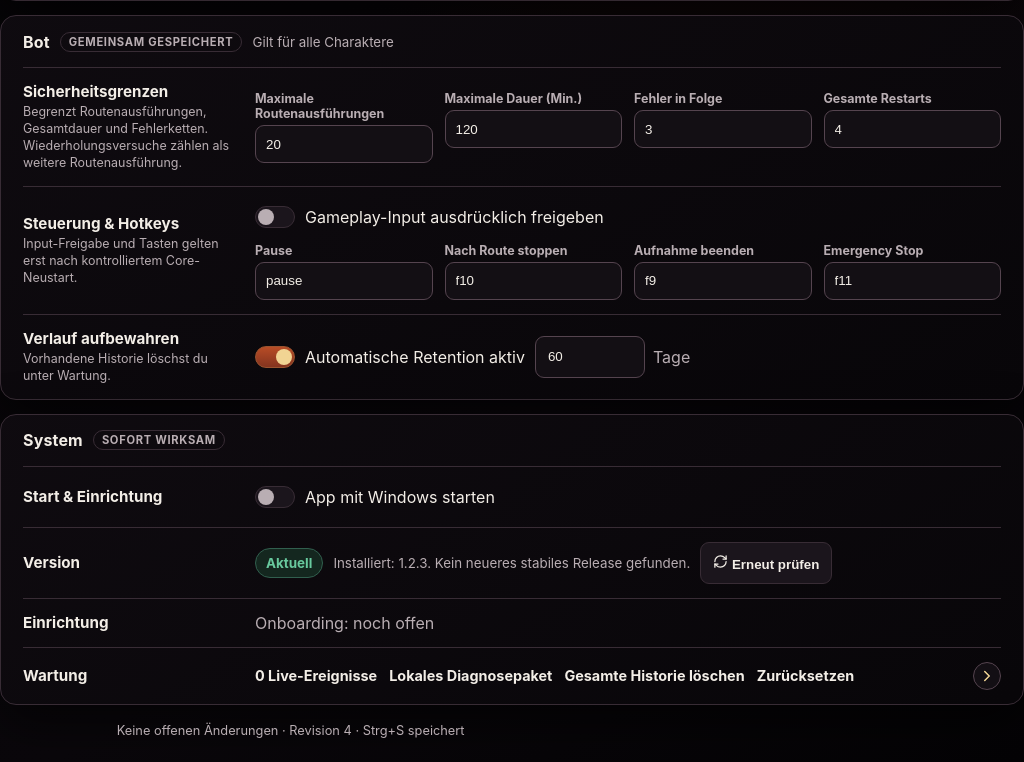
Scenario: SettingsFeature › erstellt Diagnose standardmäßig ohne sensitive Opt-ins und zeigt nur den lokalen Dateinamen
(page scrolled)
Click the button "Wartung" at (512,676), box [1,648,1023,704]
(page scrolled)
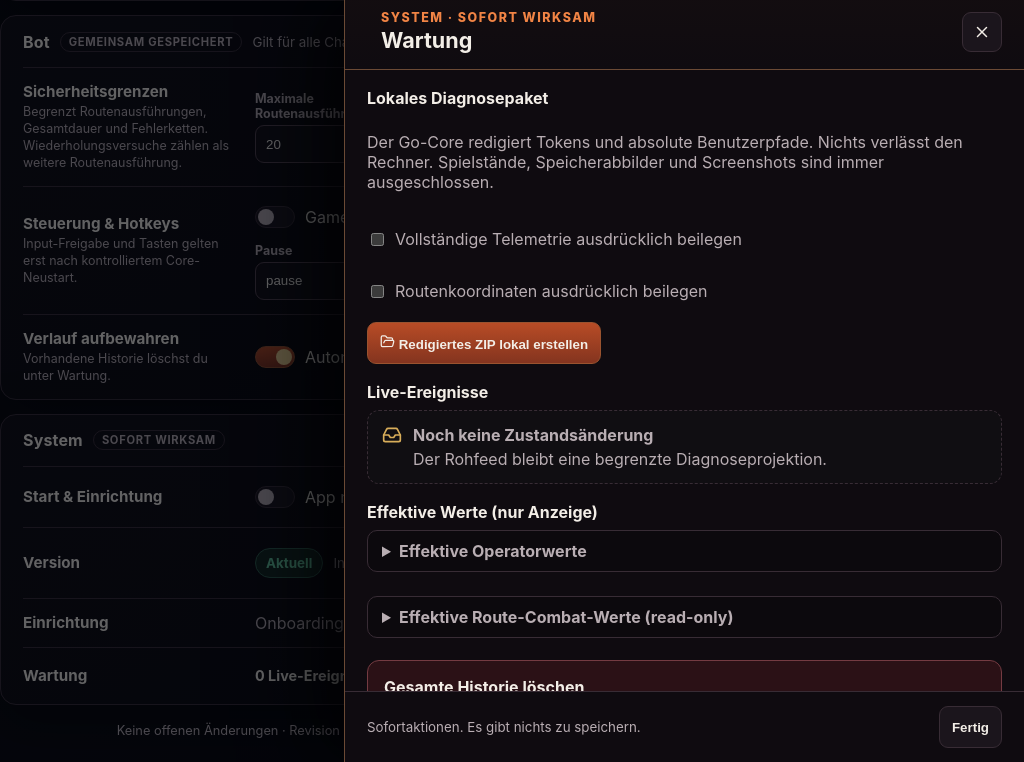
Click the button "Redigiertes ZIP lokal erstellen" at (484,343), box [367,322,601,364]
(page scrolled)
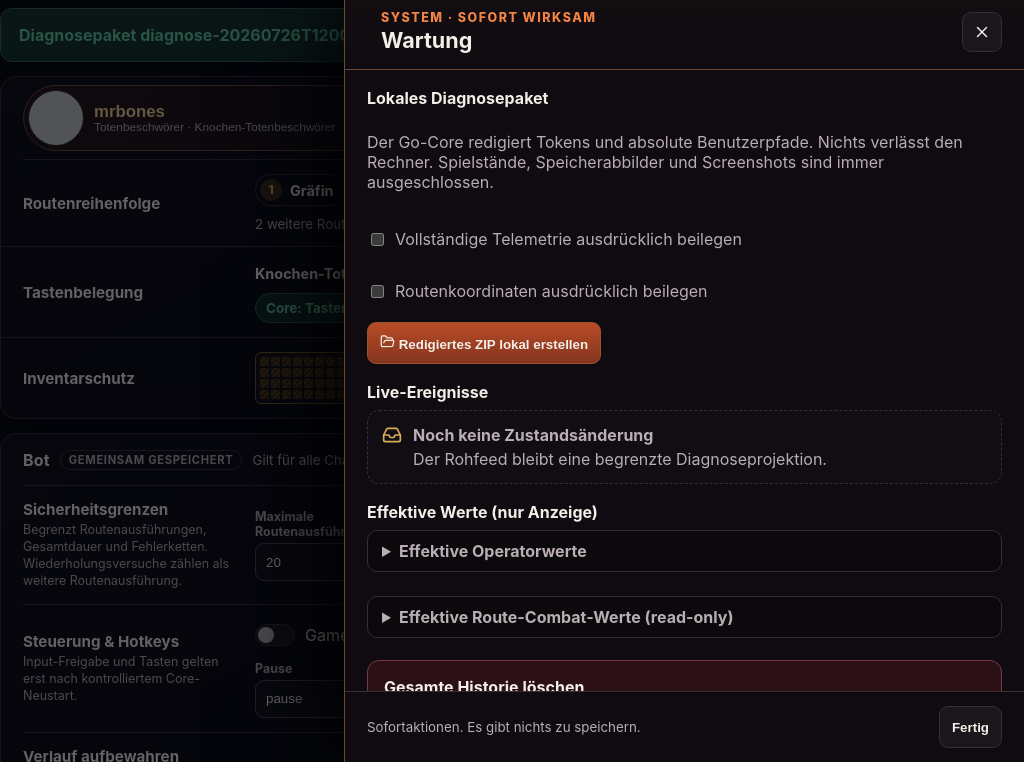
Check: the text "Diagnosepaket diagnose-" is shown, box [19,25,756,45]
